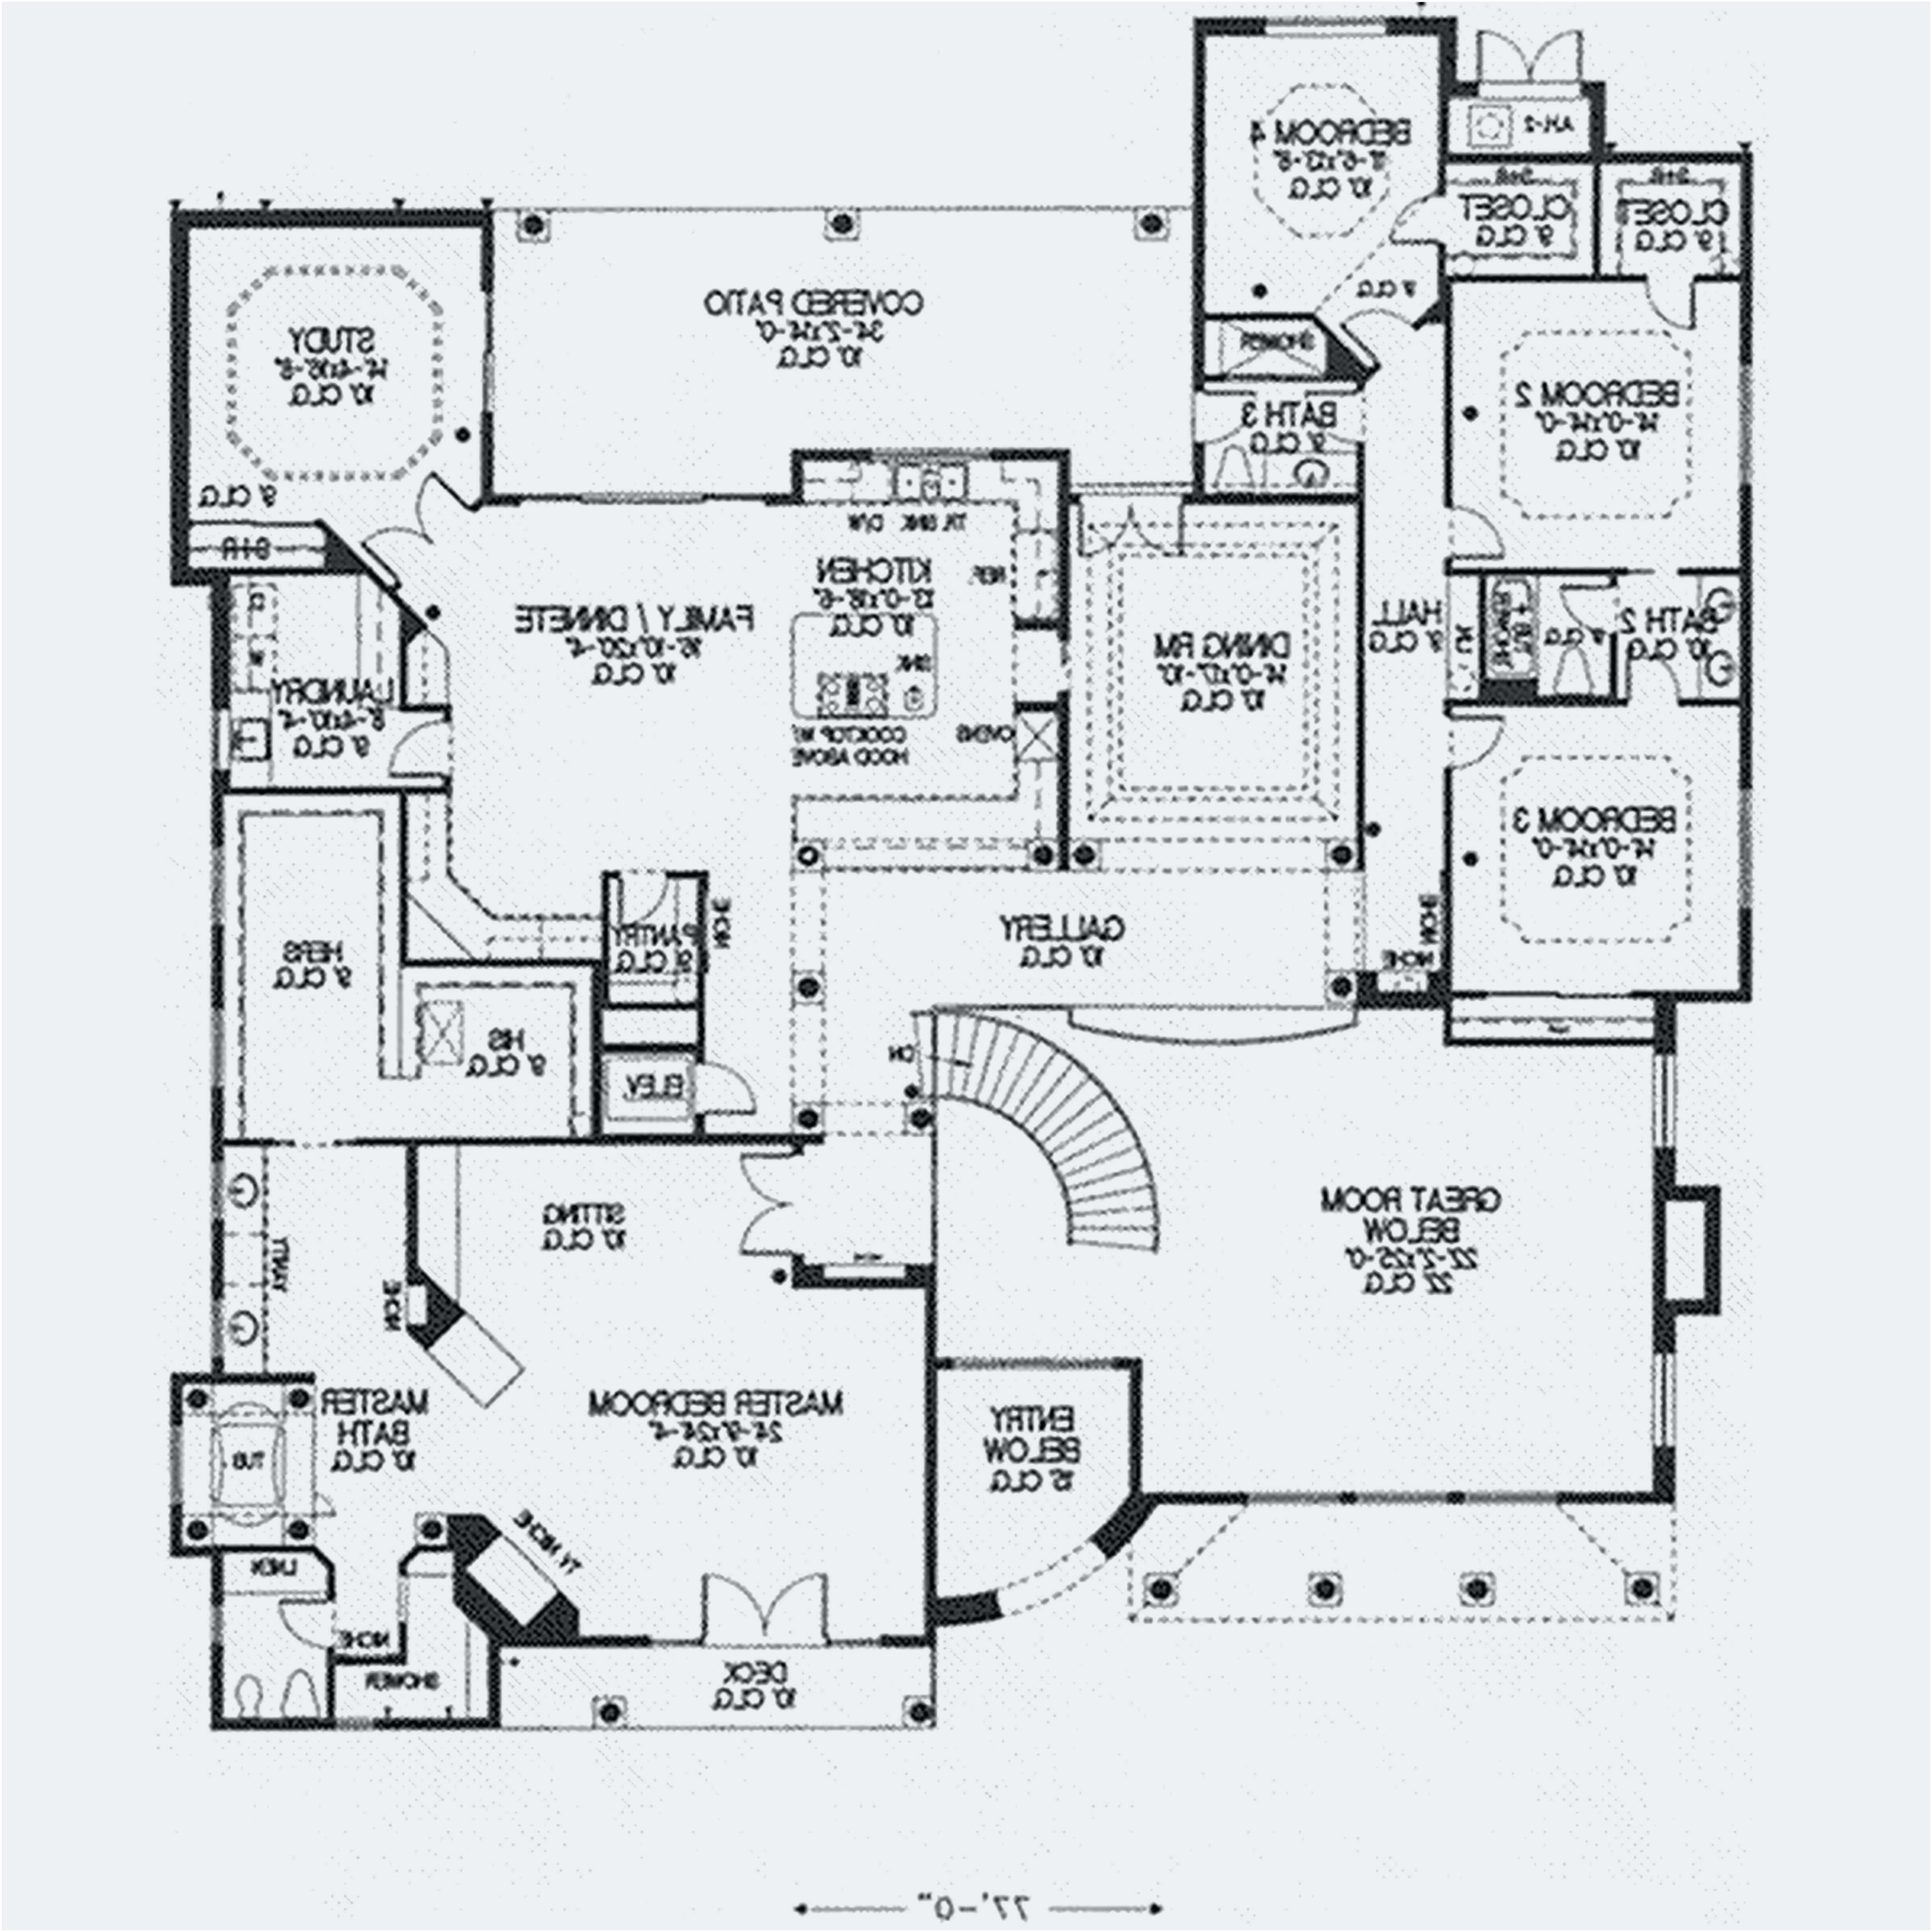wall: (1185, 12, 1210, 386), (168, 207, 189, 582), (1352, 444, 1369, 872), (916, 1267, 936, 1637), (173, 207, 488, 228), (1737, 483, 1757, 793), (416, 1134, 826, 1148), (1437, 1028, 1677, 1051), (209, 1702, 322, 1744), (1440, 768, 1456, 1054), (393, 789, 419, 961), (1433, 239, 1449, 499), (170, 1361, 318, 1387), (398, 1136, 428, 1267), (1437, 149, 1744, 161), (784, 1265, 925, 1292), (1736, 150, 1753, 363), (695, 876, 713, 1067), (1182, 487, 1371, 504), (387, 1709, 488, 1739), (1054, 444, 1069, 644), (1444, 566, 1651, 579), (1198, 14, 1269, 44), (791, 439, 876, 464), (212, 784, 449, 793), (1129, 1353, 1145, 1483), (593, 961, 603, 1148), (1560, 1490, 1670, 1507), (203, 1088, 226, 1171), (711, 490, 800, 511), (1445, 692, 1619, 702), (207, 918, 230, 998), (207, 1215, 230, 1286), (1062, 688, 1070, 870), (216, 579, 230, 692), (1437, 14, 1445, 193), (478, 1638, 651, 1647), (786, 446, 807, 513), (207, 1640, 226, 1713), (207, 773, 234, 826), (1654, 1445, 1679, 1502), (1583, 81, 1605, 147), (1134, 1490, 1246, 1502), (479, 1638, 497, 1716), (1651, 991, 1672, 1051), (1387, 16, 1453, 35), (479, 207, 495, 285), (186, 561, 226, 591), (1681, 694, 1744, 711), (998, 444, 1067, 460), (1739, 902, 1750, 998), (483, 494, 575, 502), (1681, 566, 1746, 579), (1191, 441, 1205, 497), (1633, 991, 1739, 998), (922, 1353, 959, 1371), (883, 1633, 927, 1647), (1012, 701, 1077, 708), (487, 416, 492, 490), (1339, 1490, 1364, 1506), (697, 1115, 706, 1136), (1453, 1490, 1461, 1495)
